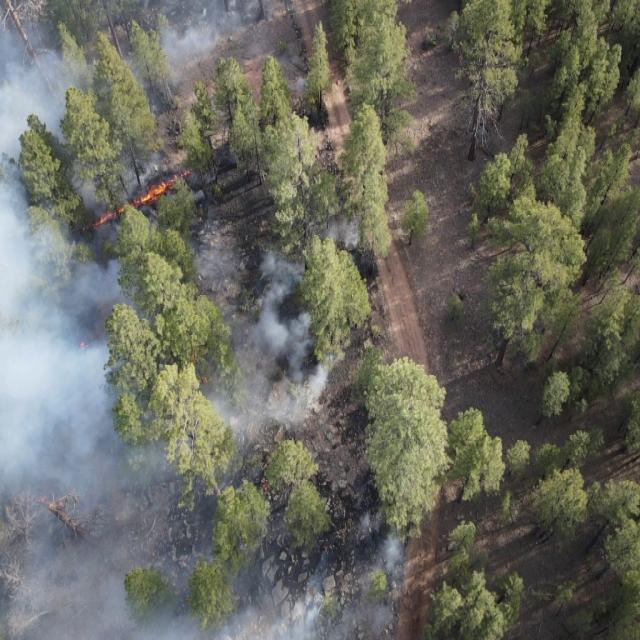fire: (76, 168, 204, 232), (192, 356, 214, 386), (78, 341, 90, 352), (262, 482, 270, 492), (321, 544, 329, 554), (57, 498, 65, 508), (264, 459, 271, 468), (40, 495, 46, 504)
smoke: (0, 164, 416, 640), (0, 0, 274, 168)
